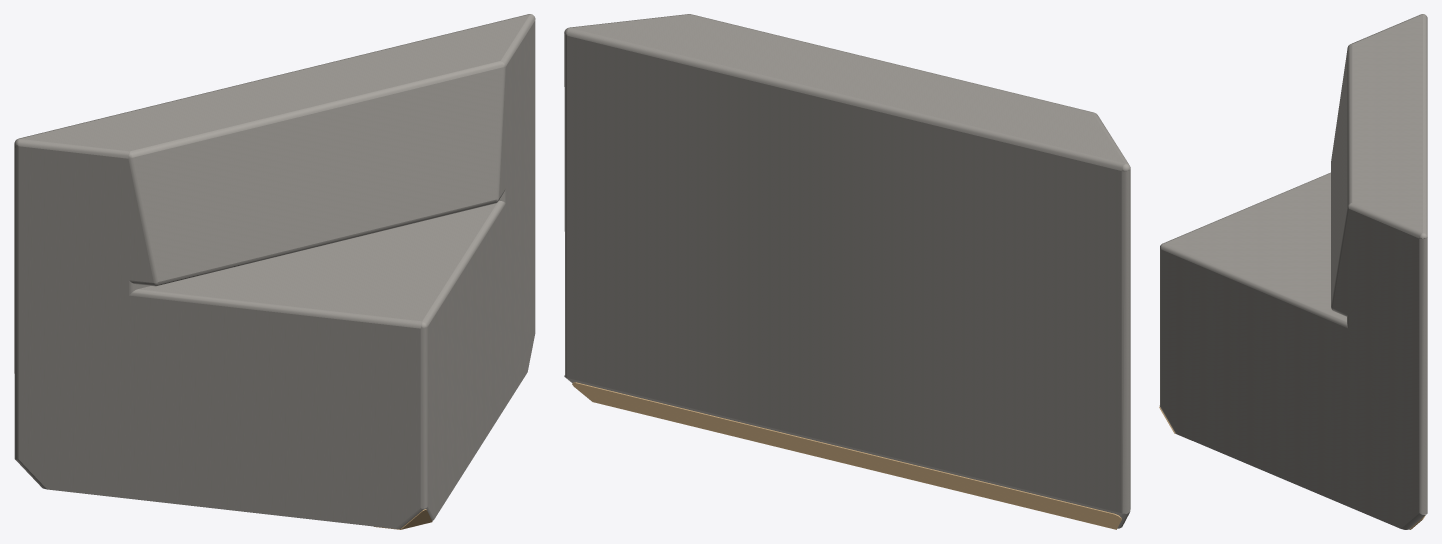
3 renders of one model, left to right at view 1: azimuth 30°, elevation 25°; view 2: azimuth 150°, elevation 25°; view 3: azimuth 270°, elevation 25°, orthographic. The views are drawn at different scales.
Parts seen in each view (by area): view 1: 2; view 2: 2, 3; view 3: 2.
Part boxes in pixels (x1=…): 2: x1=14, y1=14, x2=535, y2=528; 2: x1=564, y1=14, x2=1130, y2=528; 3: x1=572, y1=382, x2=1121, y2=529; 2: x1=1159, y1=14, x2=1427, y2=529.
Bounding box in the file's own units: 1.07 × 0.6937 × 0.5485.
Materials: 3 (2 with a texture image).
